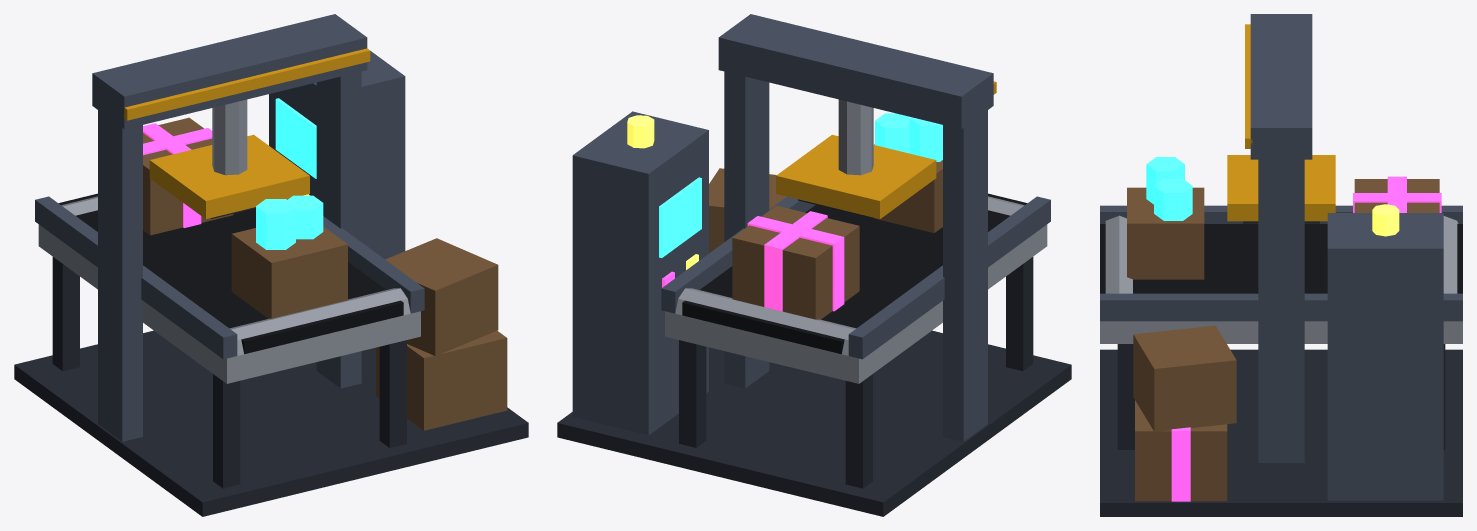
File: packaging_line.glb
The picture shows the model from 3 angles, left to right: view 1: azimuth 30°, elevation 25°; view 2: azimuth 150°, elevation 25°; view 3: azimuth 270°, elevation 25°; orthographic projection. The views are drawn at different scales.
Visible parts, largest first — view 1: packaging_line; view 2: packaging_line; view 3: packaging_line.
Boxes of the visible parts, x1,y1,x2,y2 form: packaging_line: (14, 14, 528, 516); packaging_line: (557, 14, 1071, 516); packaging_line: (1100, 14, 1462, 516).
Bounding box in the file's own units: 0.94 × 1 × 0.94.
